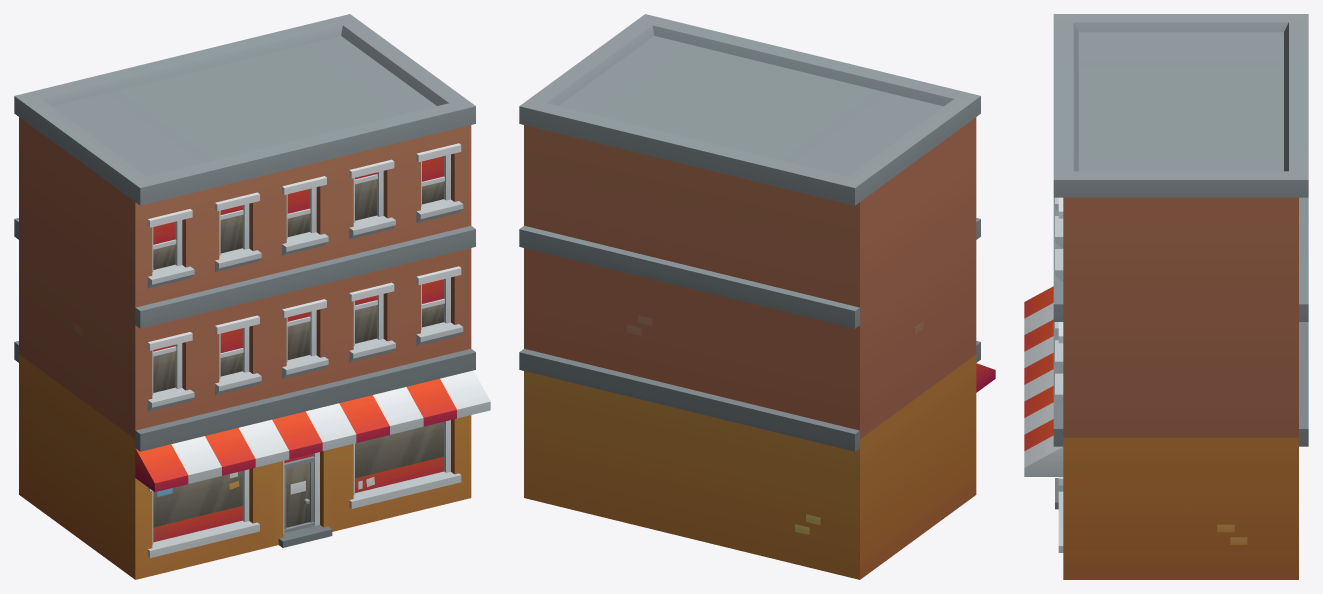
The model's file is kay-predio-e.gltf.
The picture shows the model from 3 angles, left to right: view 1: azimuth 30°, elevation 25°; view 2: azimuth 150°, elevation 25°; view 3: azimuth 270°, elevation 25°; orthographic projection.
Parts seen in each view (by area): view 1: building_E_withoutBase; view 2: building_E_withoutBase; view 3: building_E_withoutBase.
Boxes of the visible parts, <box> form: building_E_withoutBase: <box>14,14,490,579</box>; building_E_withoutBase: <box>519,14,995,579</box>; building_E_withoutBase: <box>1024,14,1308,579</box>.
Size of the model in its own units: 10.03 by 11.25 by 7.25.
Materials: 1 (1 with a texture image).
